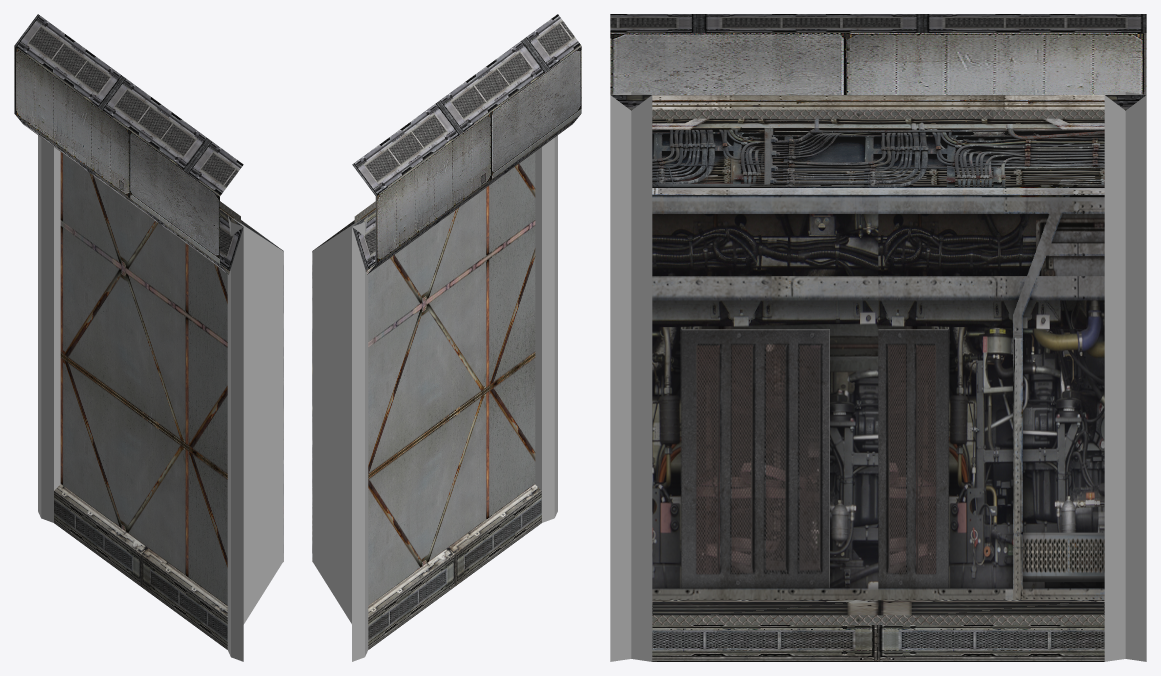
The model's file is Wall_E_Mid4mts_12.fbx.
3 renders of one model, left to right at view 1: azimuth 30°, elevation 25°; view 2: azimuth 150°, elevation 25°; view 3: azimuth 270°, elevation 25°, orthographic. The views are drawn at different scales.
Parts seen in each view (by area): view 1: Wall_Framework, Wall_E_Mid4mts_14; view 2: Wall_Framework, Wall_E_Mid4mts_14; view 3: Wall_Framework, Metal Grid, Wall_E_Mid4mts_14.
Part boxes in pixels (box(x1,y1,x2,y2)): Wall_Framework: box(14, 14, 283, 661); Wall_E_Mid4mts_14: box(60, 152, 234, 605); Wall_Framework: box(312, 14, 581, 661); Wall_E_Mid4mts_14: box(361, 152, 535, 605); Wall_Framework: box(610, 14, 1146, 661); Metal Grid: box(652, 109, 1104, 624); Wall_E_Mid4mts_14: box(652, 105, 1104, 106).
Size of the model in its own units: 67.02 by 400 by 300.
